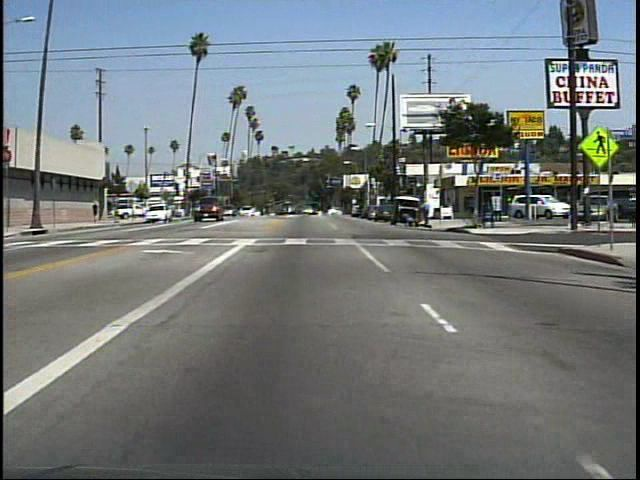person: (420, 197, 433, 229), (465, 194, 478, 221), (403, 212, 420, 230), (92, 199, 101, 227)
